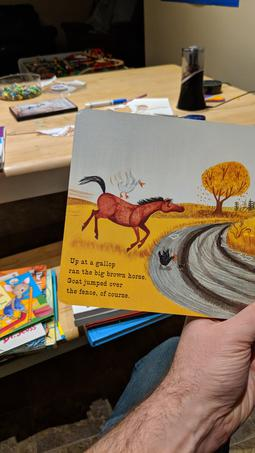text block: (63, 252, 150, 301)
